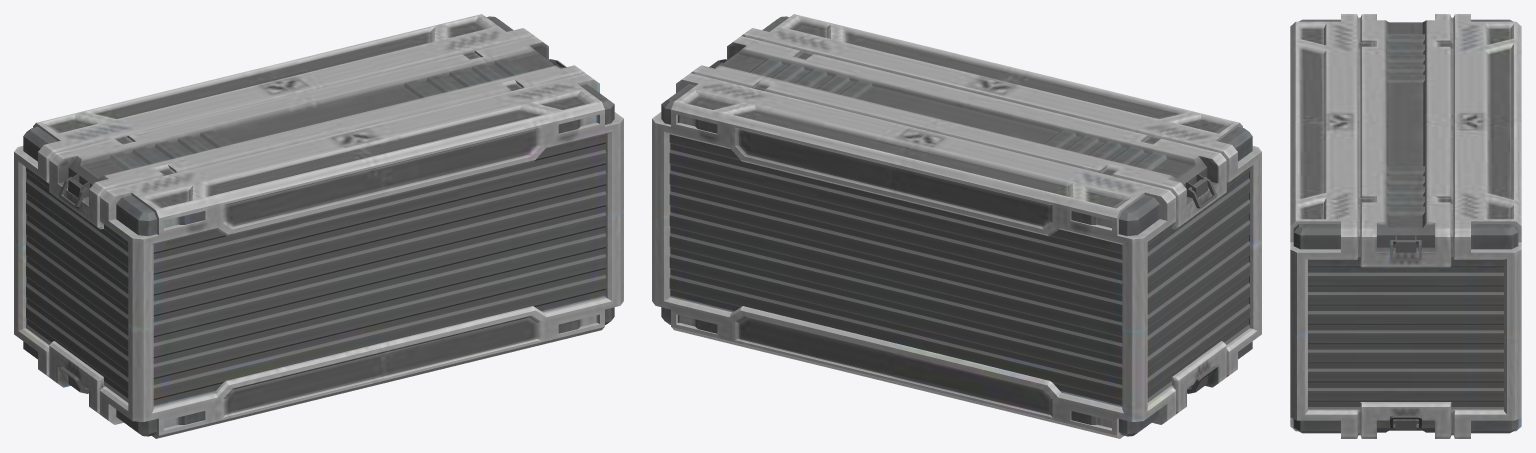
Rendered from Prop_Crate_Large_L2_512.glb.
The picture shows the model from 3 angles, left to right: view 1: azimuth 30°, elevation 25°; view 2: azimuth 150°, elevation 25°; view 3: azimuth 270°, elevation 25°; orthographic projection. The views are drawn at different scales.
Parts seen in each view (by area): view 1: Prop_Crate_Large; view 2: Prop_Crate_Large; view 3: Prop_Crate_Large.
Part boxes in pixels (left/top/right/bottom): Prop_Crate_Large: left=14, top=14, right=623, bottom=438; Prop_Crate_Large: left=652, top=14, right=1261, bottom=438; Prop_Crate_Large: left=1290, top=14, right=1521, bottom=438.
Size of the model in its own units: 3.47 by 1.5 by 1.5.
Materials: 1 (1 with a texture image).
